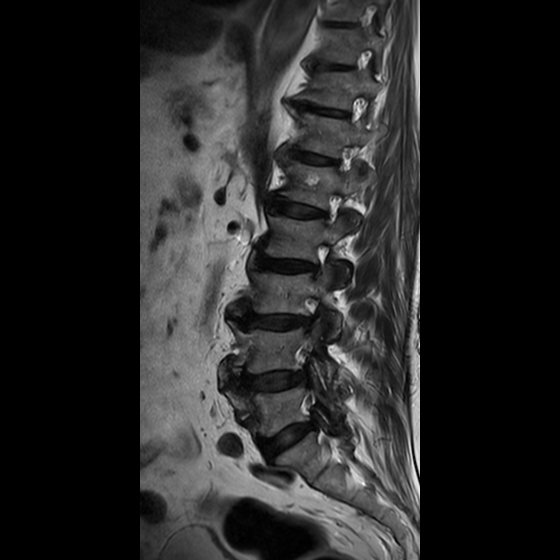LFS0: (299, 234, 335, 284), (314, 184, 347, 232)
